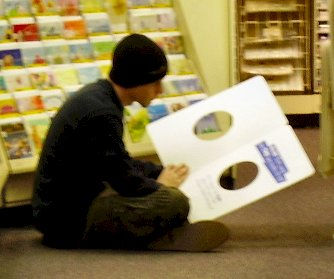person: (31, 34, 231, 250)
